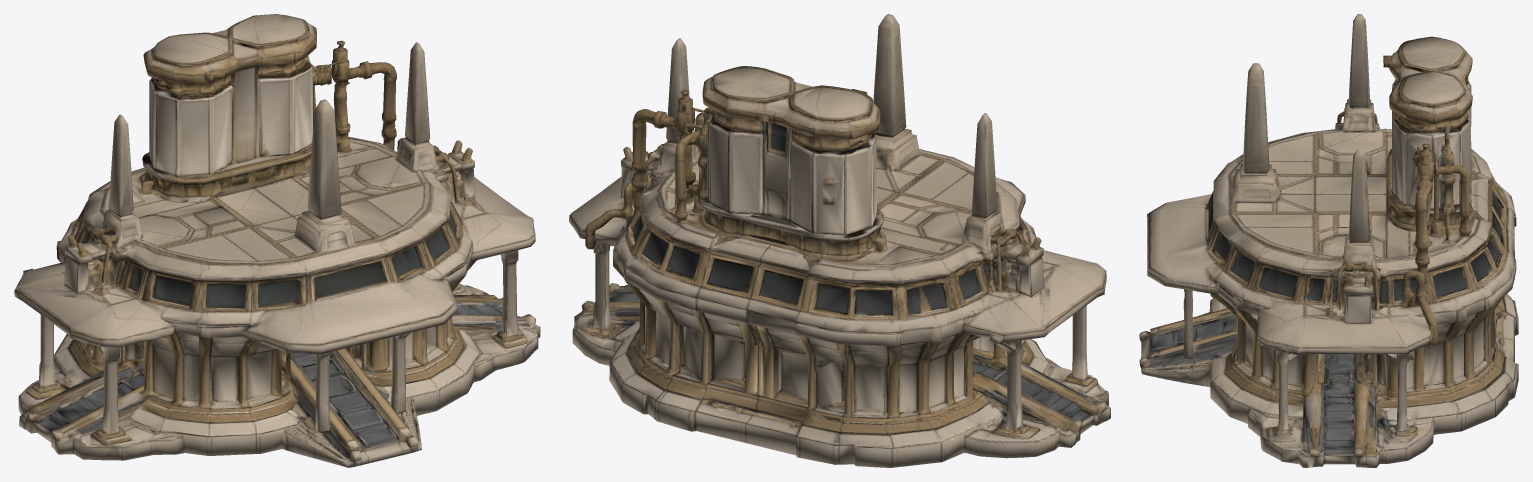
File: ore-cistern.glb
The picture shows the model from 3 angles, left to right: view 1: azimuth 30°, elevation 25°; view 2: azimuth 150°, elevation 25°; view 3: azimuth 270°, elevation 25°; orthographic projection. The views are drawn at different scales.
Visible parts, largest first — view 1: mesh_node; view 2: mesh_node; view 3: mesh_node.
Boxes of the visible parts, bbox=[...] form: mesh_node: bbox=[14, 14, 540, 467]; mesh_node: bbox=[569, 14, 1110, 467]; mesh_node: bbox=[1139, 14, 1518, 467].
Bounding box in the file's own units: 2 × 1.24 × 1.45.
1 material, 1 textured.
